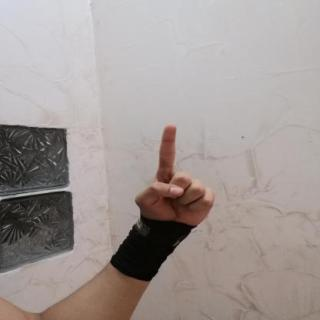BAA: (127, 119, 223, 233)
